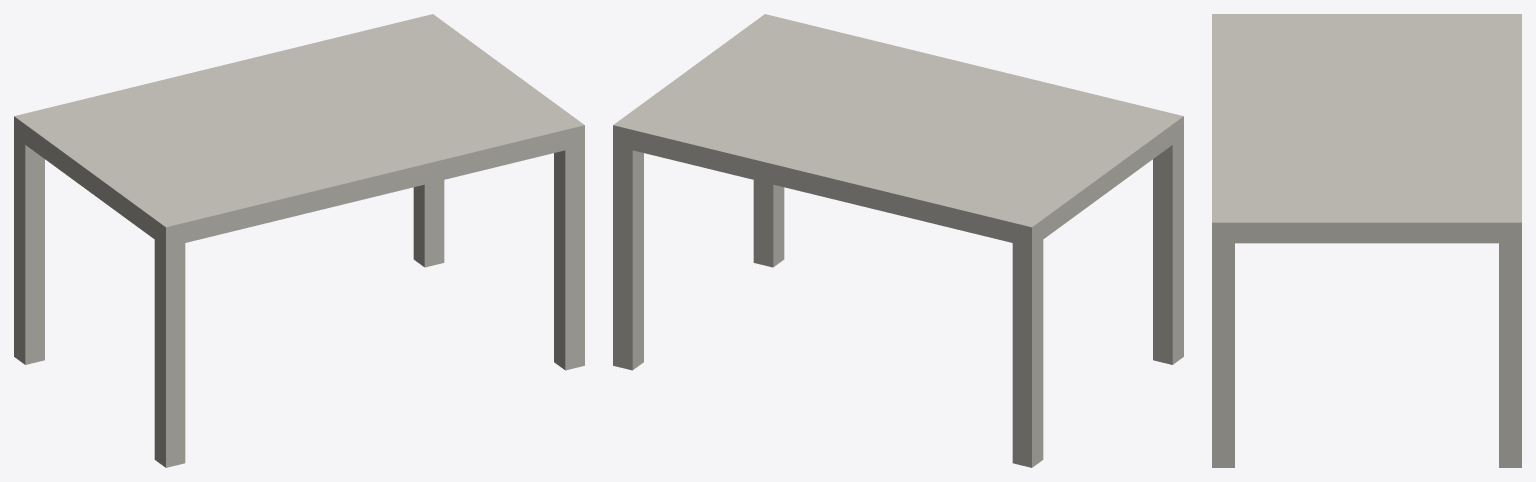
File: white_table4.fbx
3 renders of one model, left to right at view 1: azimuth 30°, elevation 25°; view 2: azimuth 150°, elevation 25°; view 3: azimuth 270°, elevation 25°, orthographic. The views are drawn at different scales.
Visible parts, largest first — view 1: Cube; view 2: Cube; view 3: Cube.
Boxes of the visible parts, x1=… form: Cube: x1=14, y1=14, x2=584, y2=467; Cube: x1=613, y1=14, x2=1183, y2=467; Cube: x1=1212, y1=14, x2=1521, y2=467.
Bounding box in the file's own units: 430 × 236 × 270.
